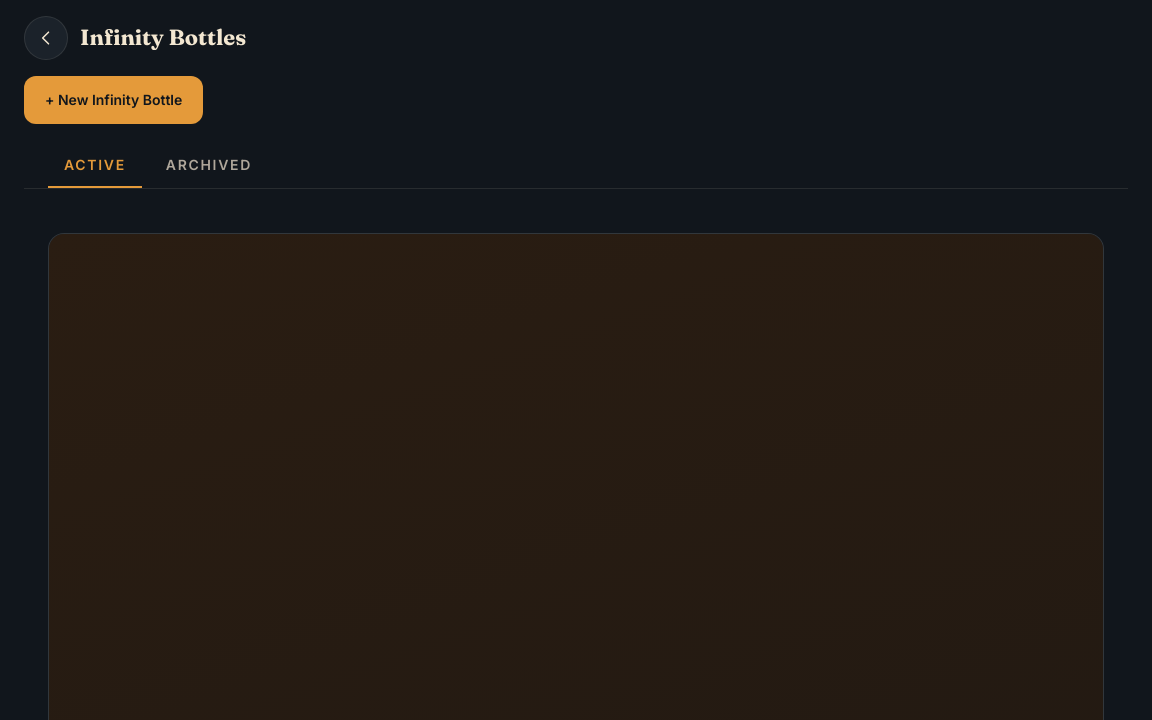
Scenario: InfinityBottlesHomePage — empty states › shows "No archived Infinity Bottles." on the Archived tab when nothing is archived
Click the tab "Archived": (209, 166) [150, 144, 268, 188]
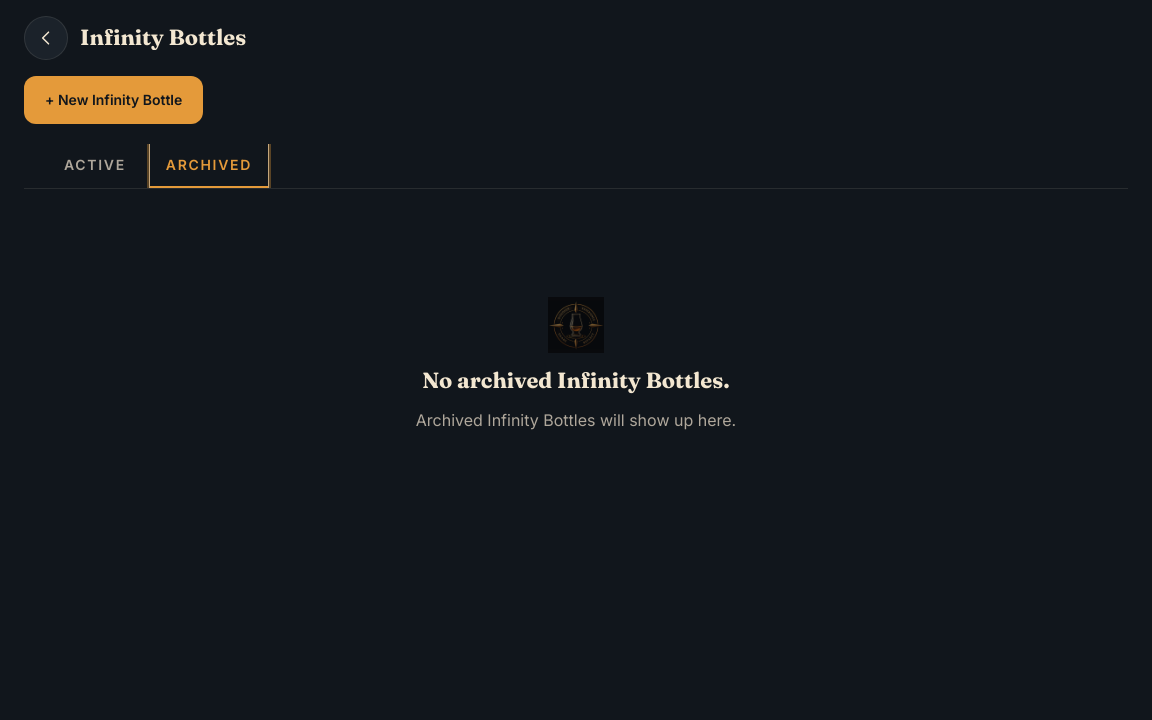
Expected: the heading "No archived Infinity Bottles." is shown, [422, 369, 730, 392]
